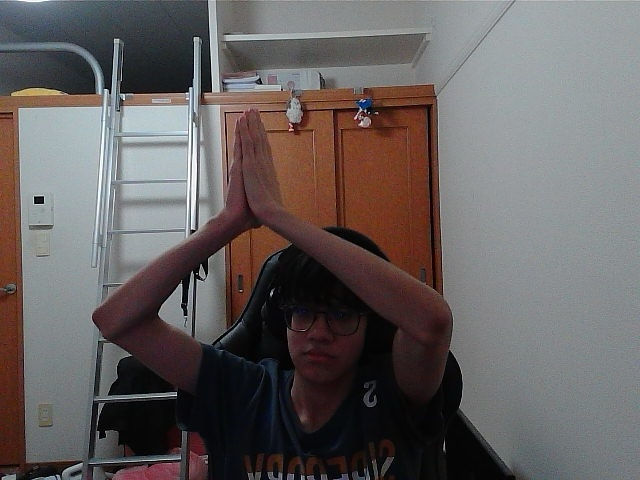pray: (237, 126, 262, 213)
